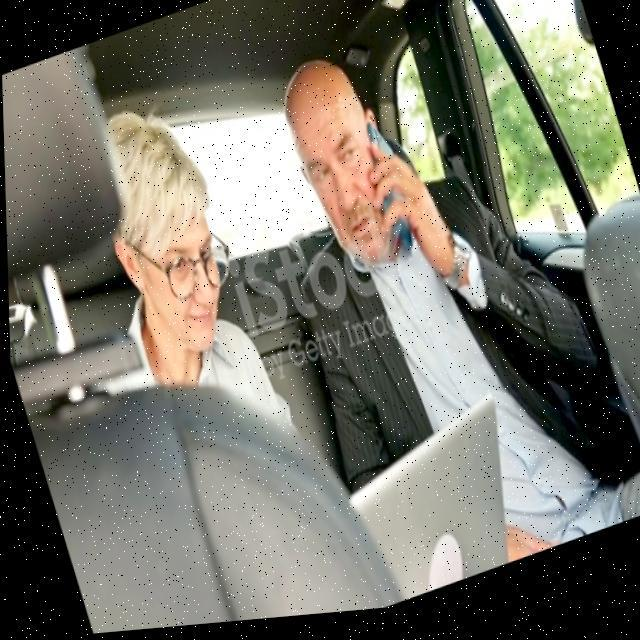PhoneCall: (349, 119, 421, 270)
